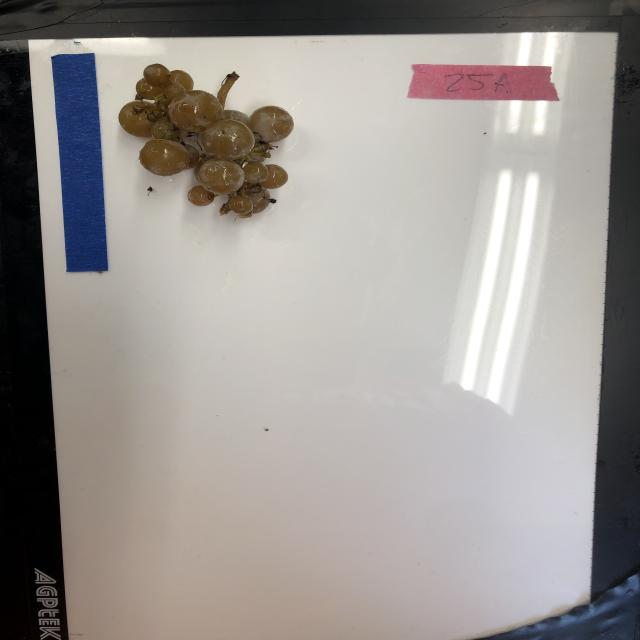grape_cluster: (120, 63, 295, 220)
index: (406, 62, 564, 104)
measure_label: (49, 50, 111, 274)
